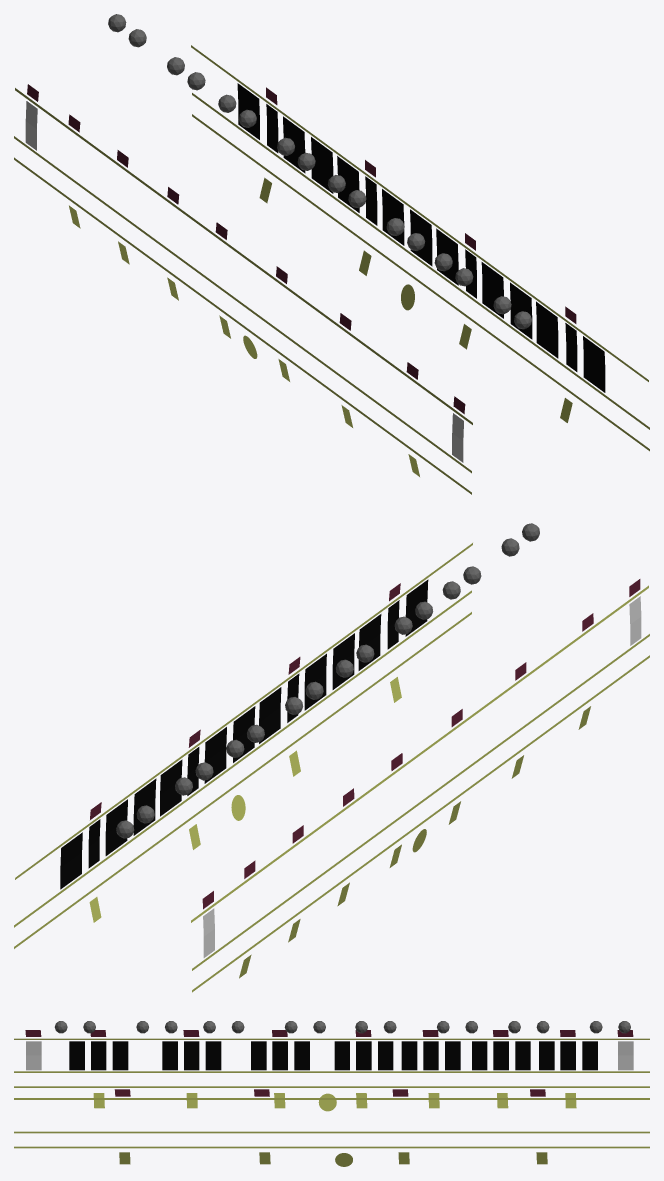
Rendered from lms-period1-cor-comp-windows.dae.
3 views of the same model, one above another, from view 1: azimuth 30°, elevation 25°; view 2: azimuth 150°, elevation 25°; view 3: azimuth 270°, elevation 25° (orthographic). The views are drawn at different scales.
Parts seen in each view (by area): view 1: Plane_915, Plane_045, Plane_913, Plane_047, Plane_046, Plane_914, Plane_916, Plane_922, Plane_925, Plane_918, Plane_920, Plane_917 (+3 smaller); view 2: Plane_915, Plane_913, Plane_045, Plane_047, Plane_046, Plane_914, Plane_923, Plane_921, Plane_924, Plane_919, Plane_945, Plane_917 (+5 smaller); view 3: Plane_045, Plane_046, Plane_047, Plane_913, Plane_914, Plane_915, Plane_966, Plane_974, Plane_1055, Plane_948, Plane_969, Plane_970 (+18 smaller).
Part boxes in pixels (<box>): Plane_915: <box>15,88,472,424</box>; Plane_045: <box>192,93,649,429</box>; Plane_913: <box>14,136,471,473</box>; Plane_047: <box>14,157,471,494</box>; Plane_046: <box>192,114,649,451</box>; Plane_914: <box>191,45,648,381</box>; Plane_916: <box>536,301,558,358</box>; Plane_922: <box>583,336,605,392</box>; Plane_925: <box>311,137,333,193</box>; Plane_918: <box>481,262,503,318</box>; Plane_920: <box>410,209,432,266</box>; Plane_917: <box>510,282,532,339</box>; Plane_915: <box>191,585,648,922</box>; Plane_913: <box>192,634,649,970</box>; Plane_045: <box>14,590,471,927</box>; Plane_047: <box>192,655,649,992</box>; Plane_046: <box>14,612,471,948</box>; Plane_914: <box>15,543,472,879</box>; Plane_923: <box>60,832,82,889</box>; Plane_921: <box>259,687,281,743</box>; Plane_924: <box>160,759,182,816</box>; Plane_919: <box>204,727,226,783</box>; Plane_945: <box>105,799,127,855</box>; Plane_917: <box>332,633,354,689</box>; Plane_045: <box>14,1131,649,1133</box>; Plane_046: <box>14,1146,649,1148</box>; Plane_047: <box>14,1086,649,1087</box>; Plane_913: <box>14,1071,649,1072</box>; Plane_914: <box>14,1098,649,1099</box>; Plane_915: <box>14,1038,649,1039</box>; Plane_966: <box>205,1041,221,1070</box>; Plane_974: <box>112,1041,128,1070</box>; Plane_1055: <box>401,1041,417,1070</box>; Plane_948: <box>618,1041,633,1070</box>; Plane_969: <box>162,1041,177,1070</box>; Plane_970: <box>251,1041,266,1070</box>.
Size of the model in its own units: 2.21 by 9.85 by 1.99.
